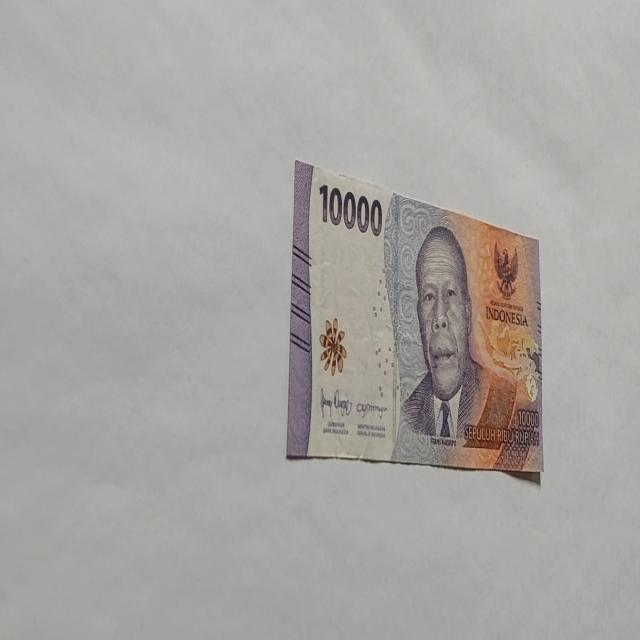sepuluh ribu rupiah: (286, 158, 544, 478), (398, 223, 516, 450)
